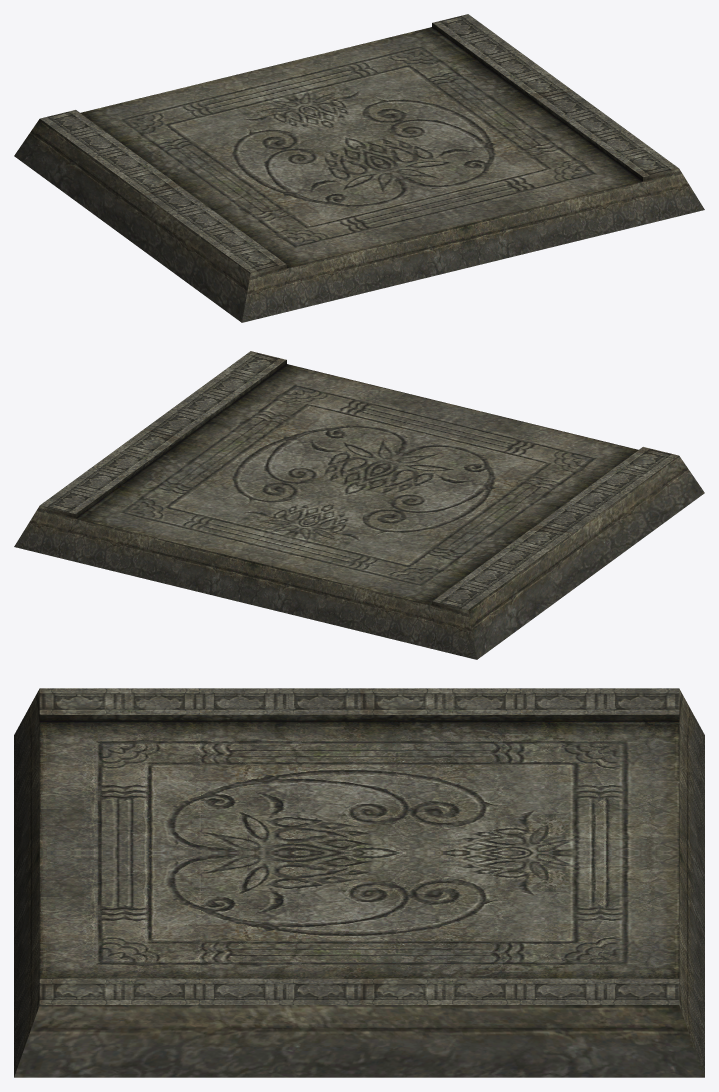
File: dawnmist_floor01.glb
The picture shows the model from 3 angles, top to bottom: view 1: azimuth 30°, elevation 25°; view 2: azimuth 150°, elevation 25°; view 3: azimuth 270°, elevation 25°; orthographic projection. The views are drawn at different scales.
Visible parts, largest first — view 1: DawnMist_floor01; view 2: DawnMist_floor01; view 3: DawnMist_floor01.
Part boxes in pixels (left/top/right/bottom): DawnMist_floor01: left=14, top=14, right=704, bottom=322; DawnMist_floor01: left=14, top=351, right=704, bottom=659; DawnMist_floor01: left=14, top=688, right=704, bottom=1077.
Size of the model in its own units: 11.68 by 0.9517 by 9.96.
Materials: 1 (1 with a texture image).
